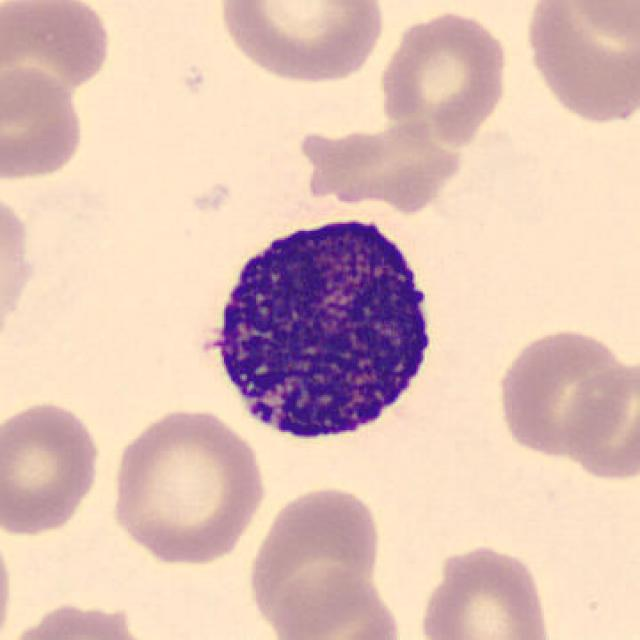Basophil: (186, 201, 452, 458)
RBC: (105, 402, 270, 568), (244, 481, 386, 635), (375, 5, 514, 148), (492, 324, 633, 462), (519, 0, 640, 129), (213, 0, 391, 86), (0, 396, 105, 540), (414, 541, 556, 640), (0, 0, 115, 109), (0, 62, 89, 183), (263, 566, 405, 640), (558, 358, 640, 483), (2, 597, 162, 640), (0, 183, 39, 354), (558, 0, 638, 48), (0, 518, 18, 640)
